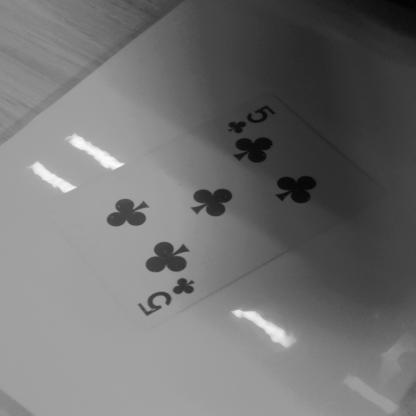5C: (129, 276, 207, 327), (220, 104, 289, 141)
